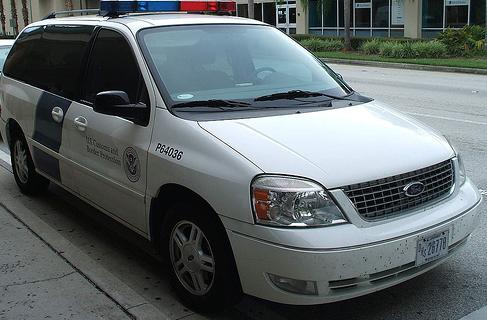front_view: (244, 140, 467, 284)
headlight: (254, 166, 362, 239)
side_glass: (23, 20, 154, 124)
